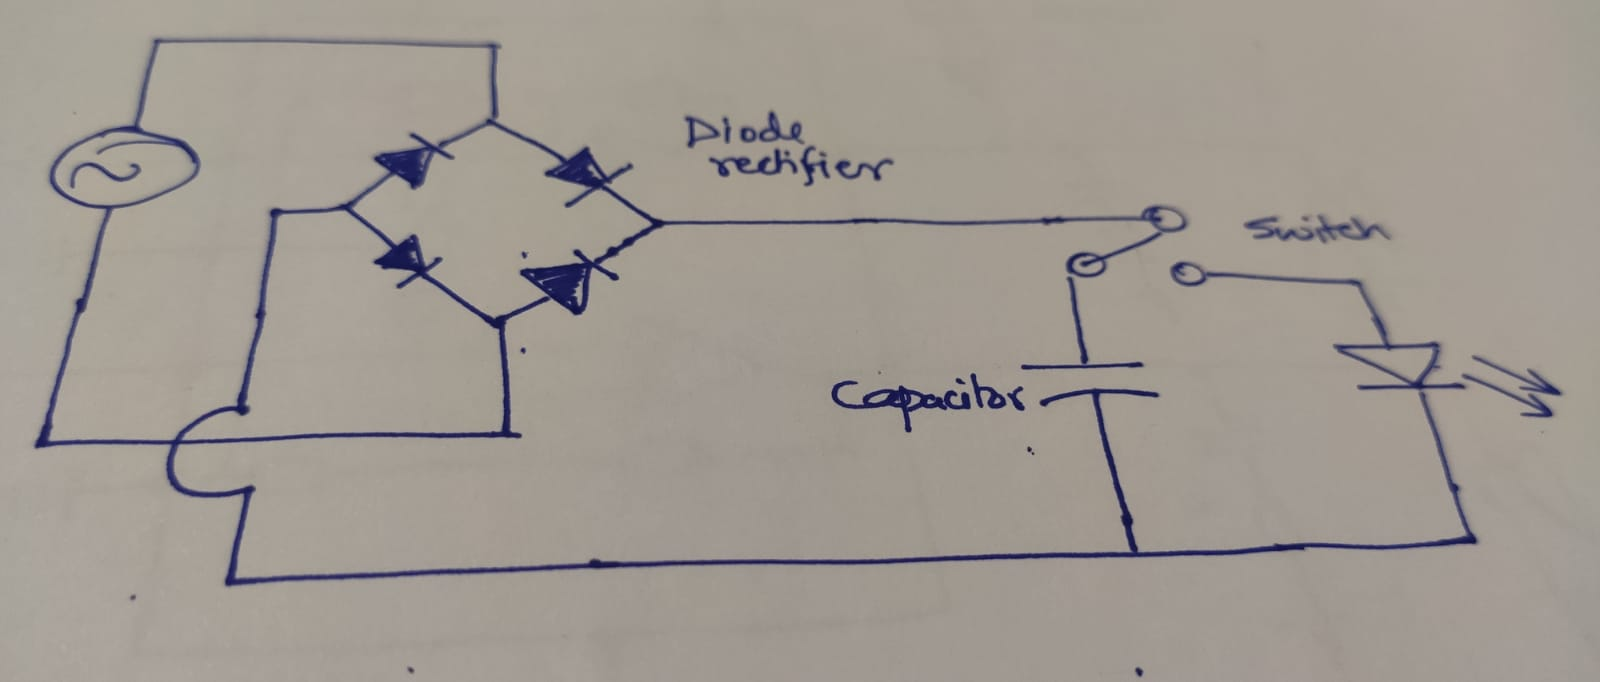capacitor.unpolarized: (1019, 354, 1165, 413)
crossover: (164, 398, 262, 498)
diode: (519, 248, 619, 316), (543, 143, 633, 207), (371, 124, 454, 189), (371, 234, 442, 289)
diode.light_emitting: (1334, 338, 1564, 419)
junction: (30, 429, 60, 458), (217, 564, 245, 595), (491, 419, 526, 443), (1120, 542, 1150, 571), (1453, 526, 1484, 552), (483, 310, 512, 337), (479, 36, 509, 61), (1345, 271, 1372, 297), (478, 110, 506, 136), (336, 195, 361, 222), (645, 212, 670, 238), (263, 202, 289, 225), (146, 33, 167, 55)
switch: (1062, 202, 1216, 290)
text: (679, 108, 902, 191), (828, 372, 1031, 437), (1242, 209, 1393, 246)
voltage.dc_ac: (49, 120, 203, 212)
